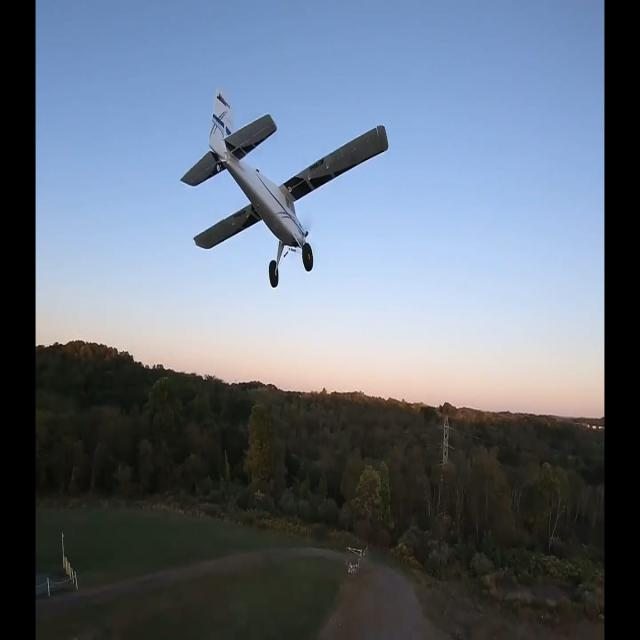iha: (180, 91, 390, 286)
